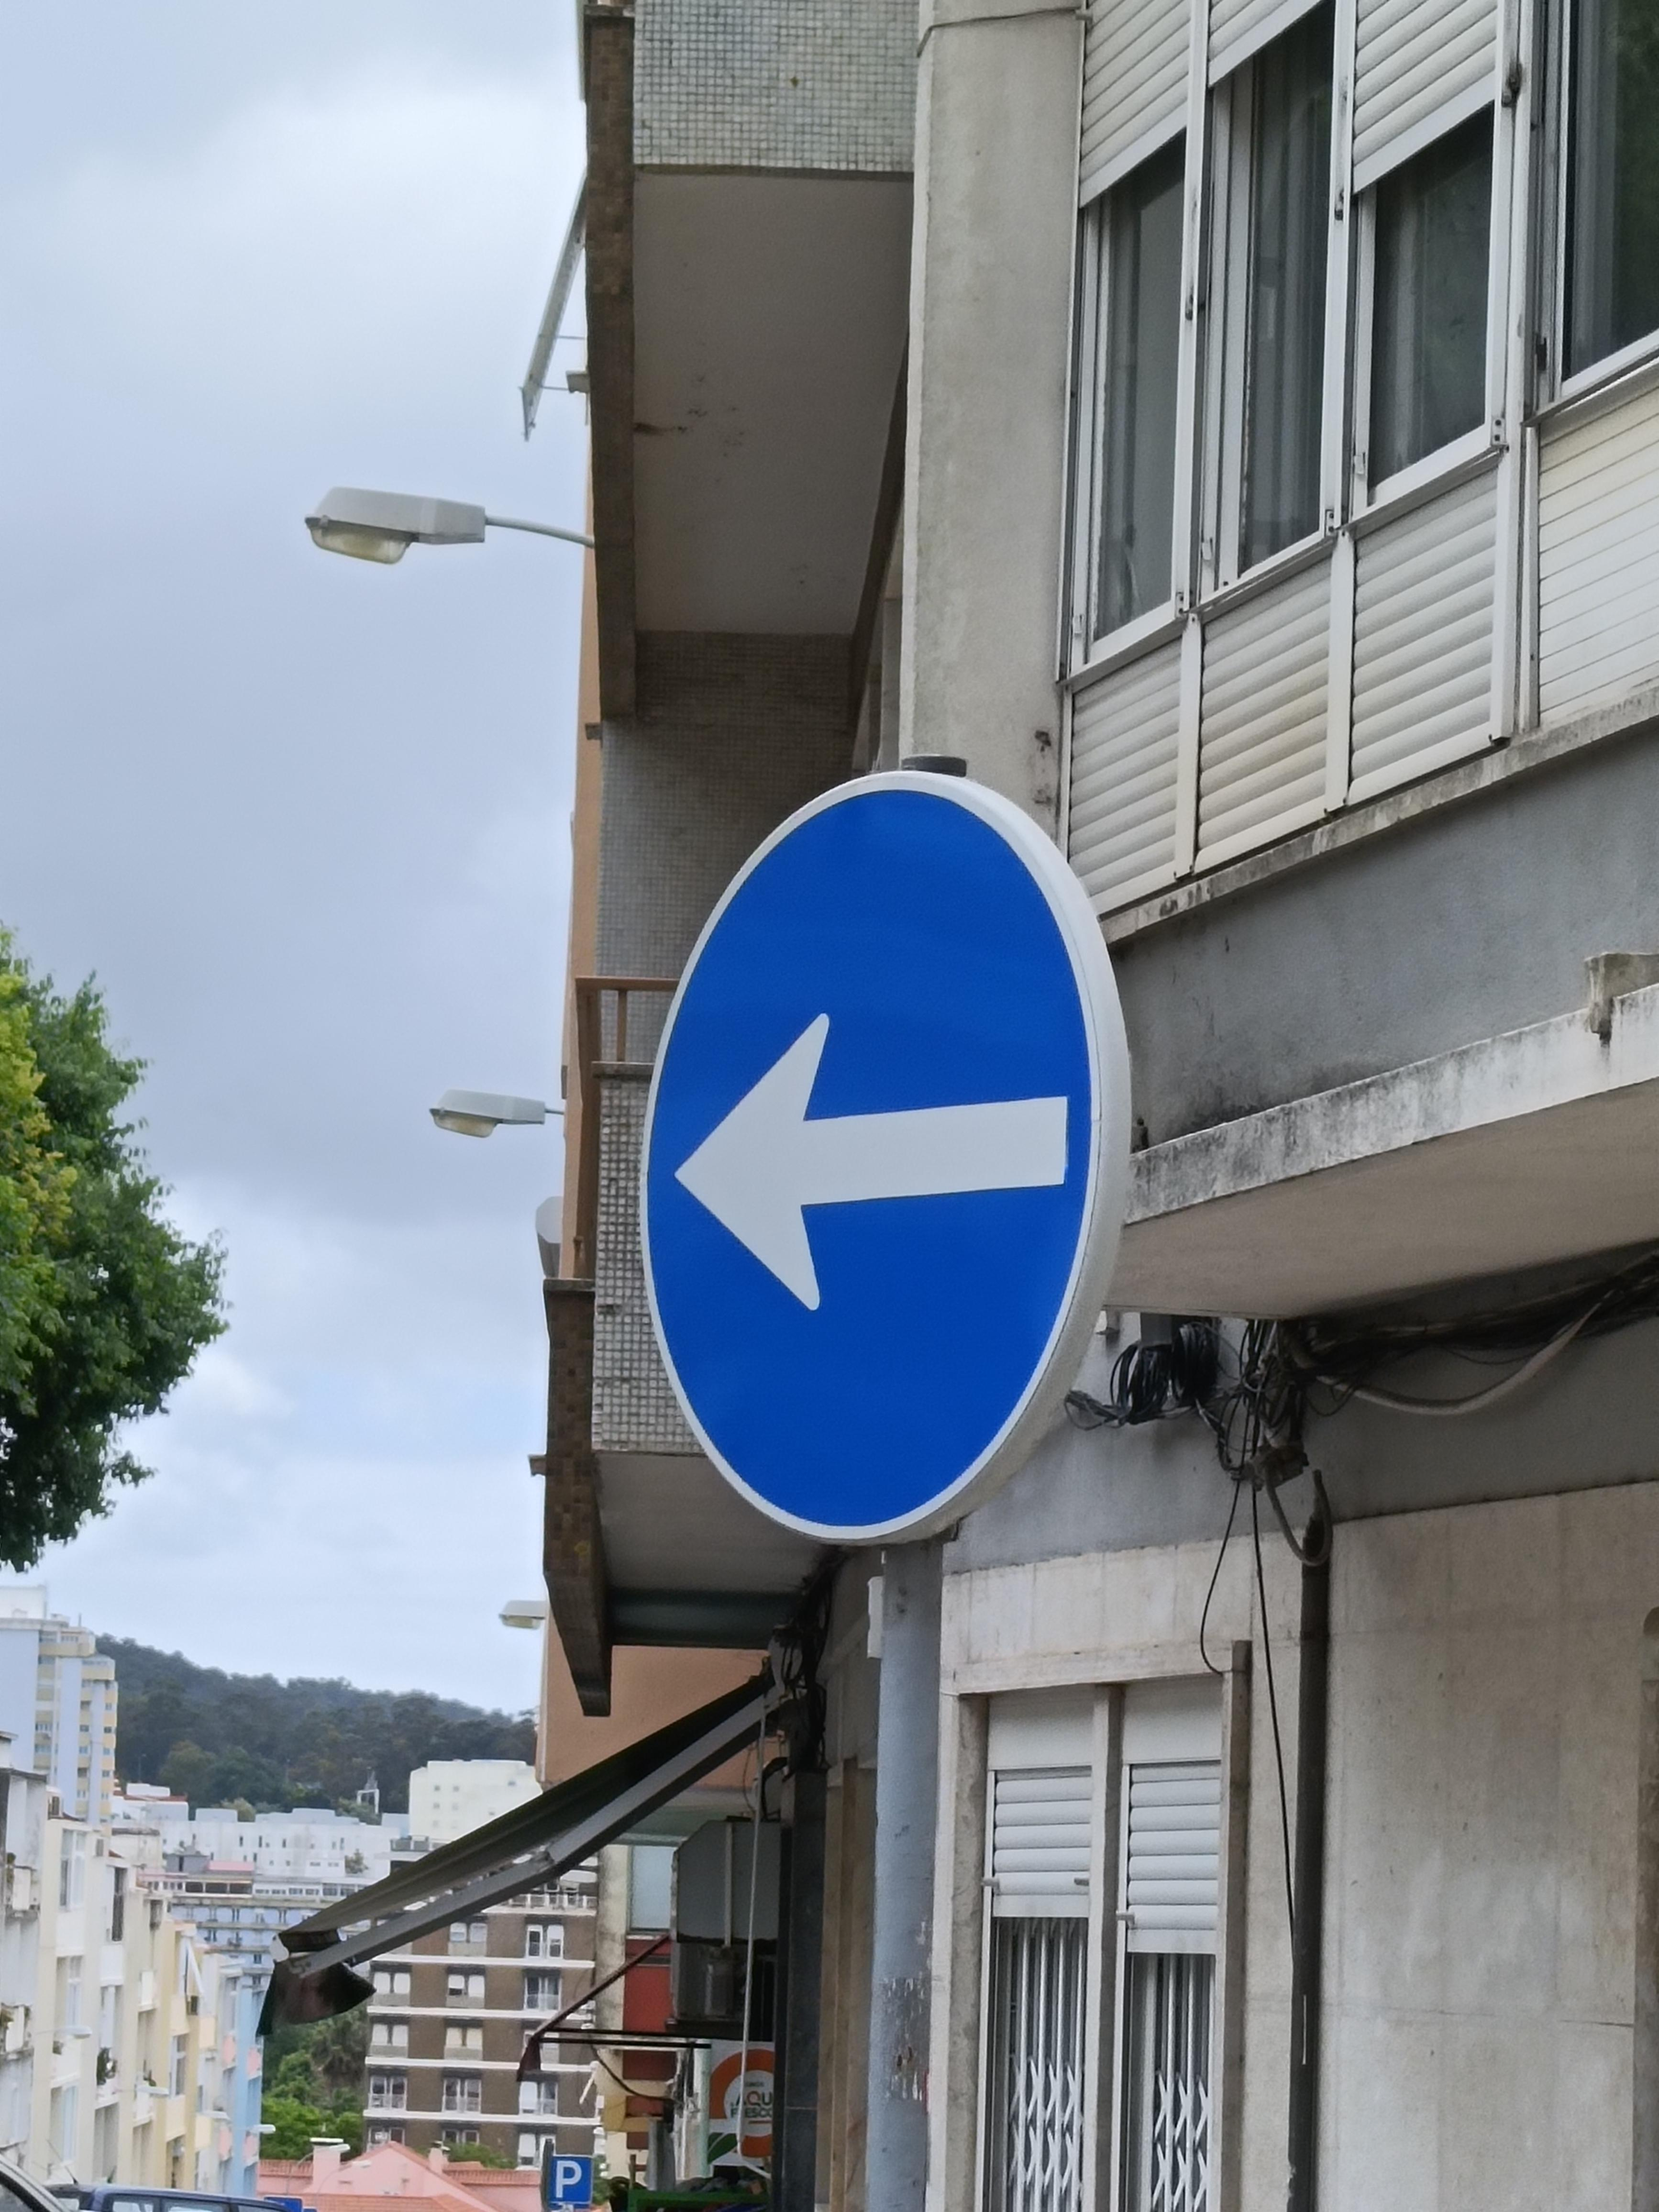sentido obrigatorio: (617, 756, 1148, 1569)
